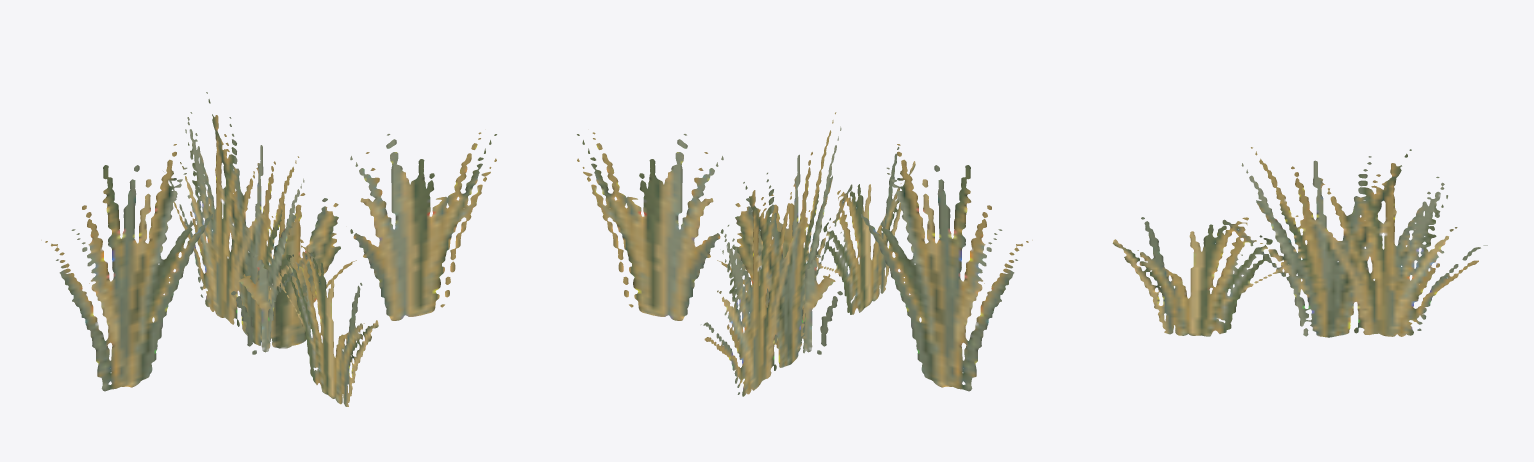
Rendered from g02-far.glb.
3 renders of one model, left to right at view 1: azimuth 30°, elevation 25°; view 2: azimuth 150°, elevation 25°; view 3: azimuth 270°, elevation 25°, orthographic. The views are drawn at different scales.
Size of the model in its own units: 0.78 by 0.3697 by 0.661.
Materials: 1 (1 with a texture image).
